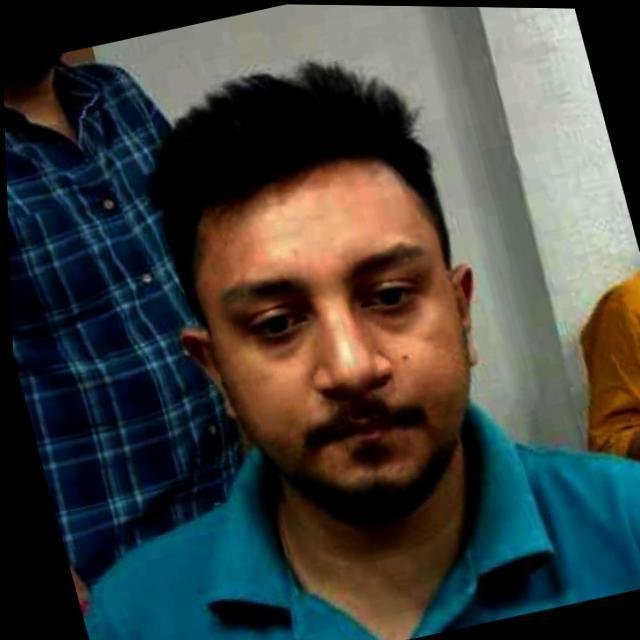puffy_eyes: (362, 305, 420, 331), (269, 335, 302, 356)
